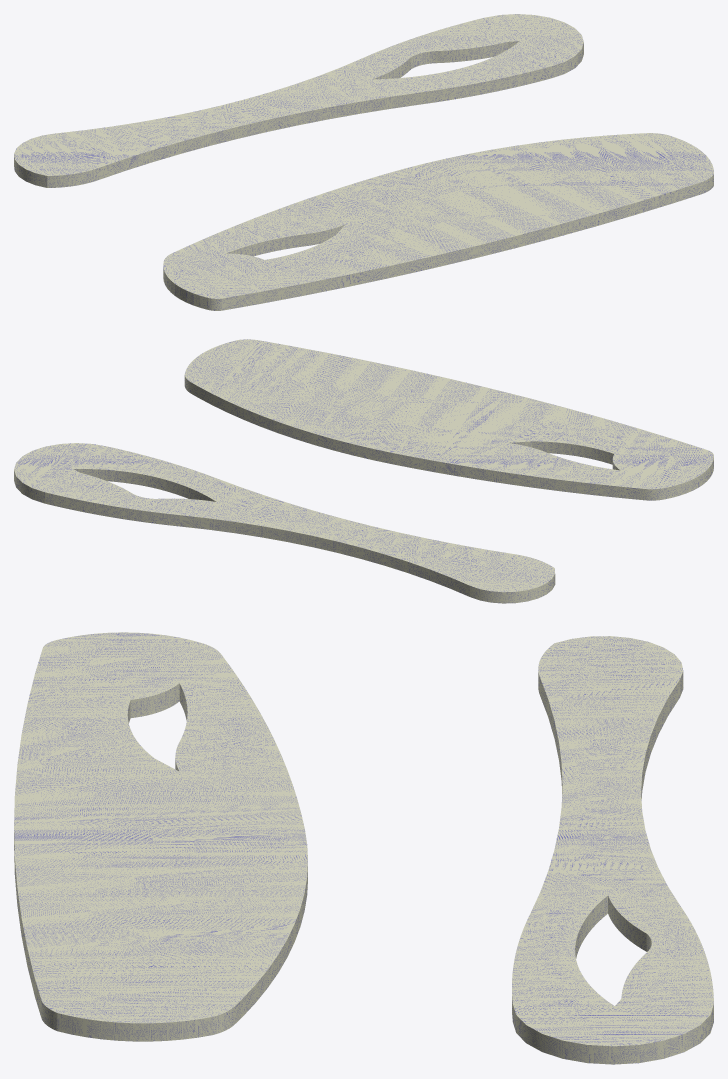
Rendered from human-arm.dae.
3 renders of one model, top to bottom at view 1: azimuth 30°, elevation 25°; view 2: azimuth 150°, elevation 25°; view 3: azimuth 270°, elevation 25°, orthographic. The views are drawn at different scales.
Parts seen in each view (by area): view 1: upperarm (×2), forearm (×2); view 2: upperarm (×2), forearm (×2); view 3: upperarm (×2), forearm (×2).
Part boxes in pixels (box(x1,y1,x2,y2)): upperarm (×2): box(163, 133, 713, 310); forearm (×2): box(14, 14, 583, 187); upperarm (×2): box(184, 339, 713, 500); forearm (×2): box(14, 443, 555, 603); upperarm (×2): box(14, 632, 307, 1041); forearm (×2): box(512, 636, 713, 1064).
Size of the model in its own units: 19.17 by 13.7 by 0.3937.
